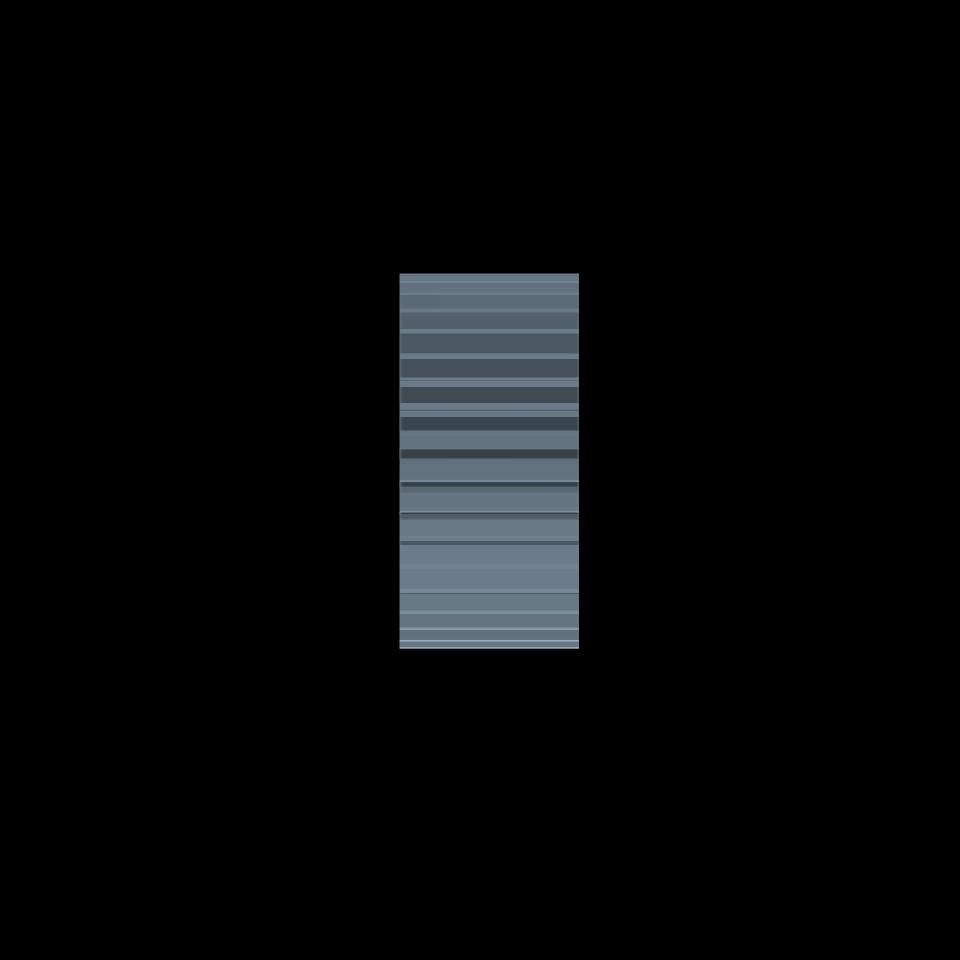Straight: (399, 273, 578, 649)
